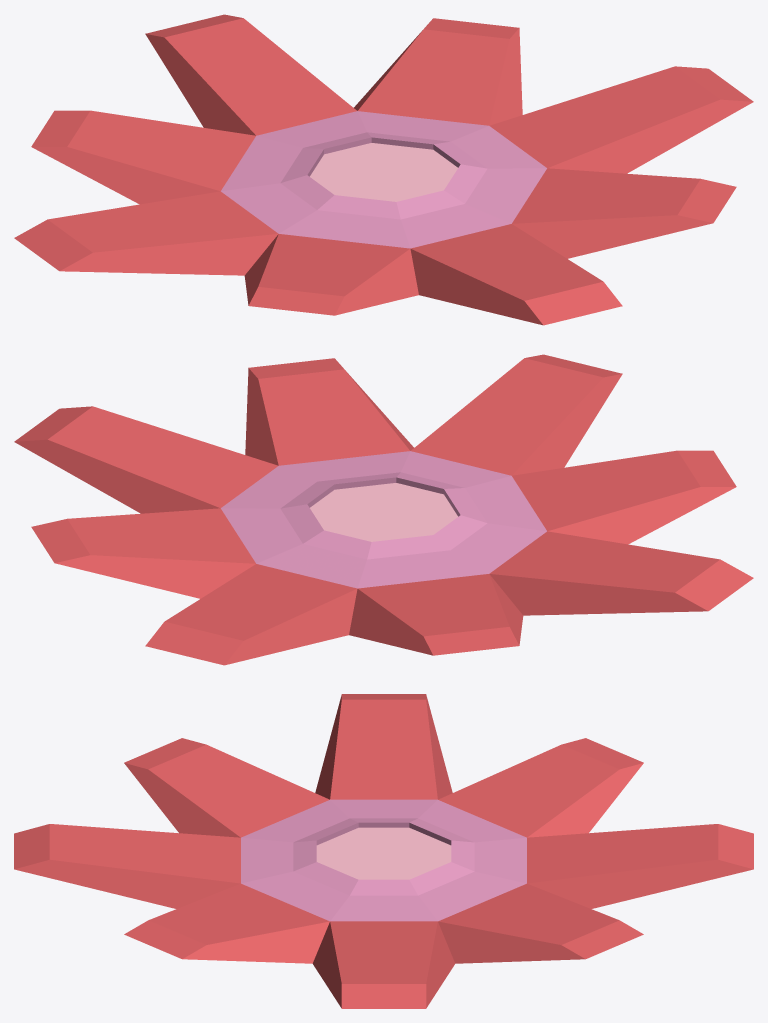
The model's file is Flower 6.fbx.
3 renders of one model, top to bottom at view 1: azimuth 30°, elevation 25°; view 2: azimuth 150°, elevation 25°; view 3: azimuth 270°, elevation 25°, orthographic. The views are drawn at different scales.
Parts seen in each view (by area): view 1: Flower 1.047; view 2: Flower 1.047; view 3: Flower 1.047.
Boxes of the visible parts, box(x1,y1,x2,y2) form: Flower 1.047: box(14, 14, 753, 325); Flower 1.047: box(14, 354, 753, 665); Flower 1.047: box(14, 694, 753, 1008).
Bounding box in the file's own units: 2.05 × 0.1257 × 2.04.
